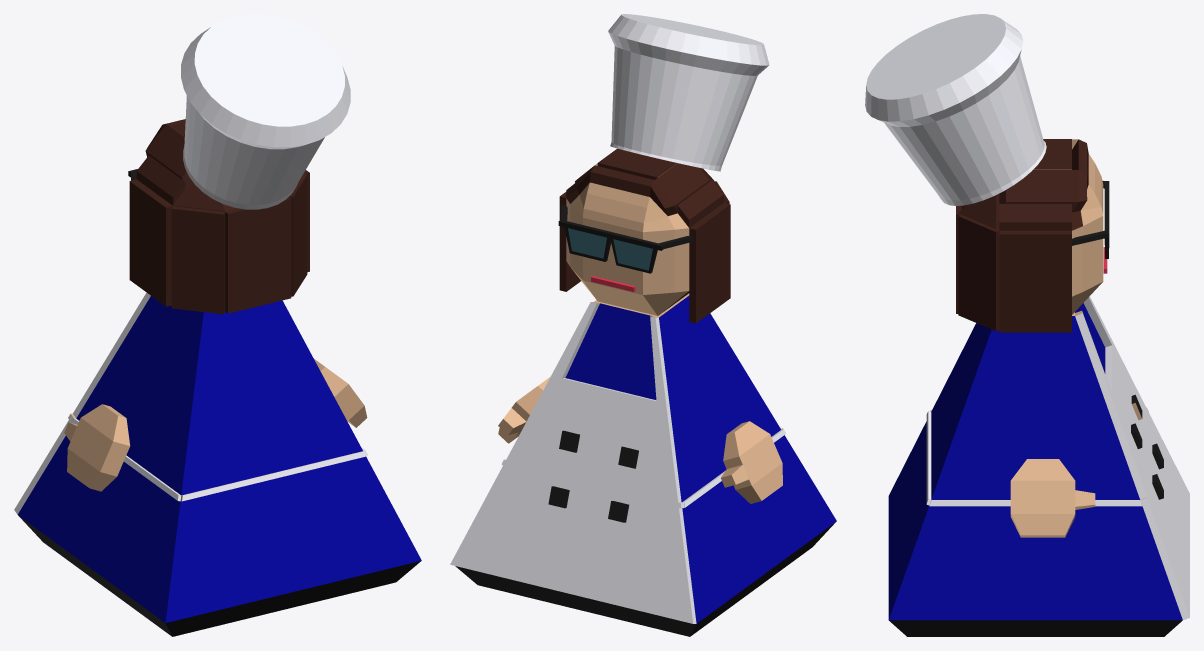
File: Chef1 .fbx
3 views of the same model, side by side, from view 1: azimuth 30°, elevation 25°; view 2: azimuth 150°, elevation 25°; view 3: azimuth 270°, elevation 25° (orthographic). The views are drawn at different scales.
Visible parts, largest first — view 1: Cube; view 2: Cube; view 3: Cube.
Part boxes in pixels (x1,y1,x2,y2): Cube: (14,14,421,636); Cube: (450,14,836,636); Cube: (865,14,1189,636).
Size of the model in its own units: 9.88 by 18.93 by 10.06.
